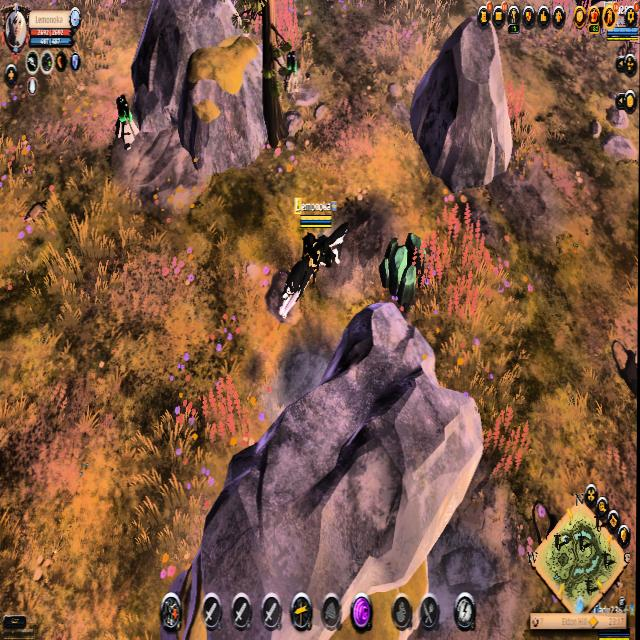ore tier 3: (113, 93, 142, 147), (284, 50, 305, 100)
rock tier 3: (378, 230, 428, 304)
